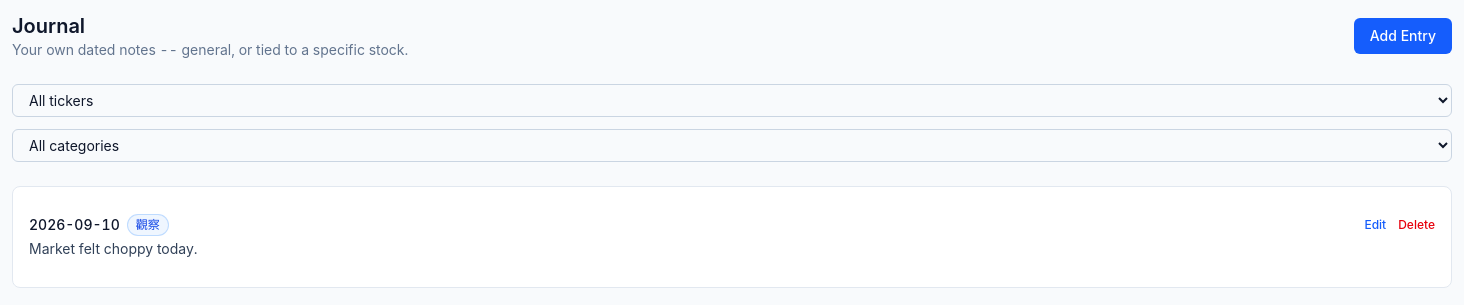
Test case: Journal page › filters entries by category
Expected: the text "Market felt choppy today." is shown, top-left (29, 240), bottom-right (198, 257)
Step 1. Select "檢討" in the 2nd dropdown showing "All categories" → [732, 146], box top-left (12, 129), bottom-right (1452, 162)
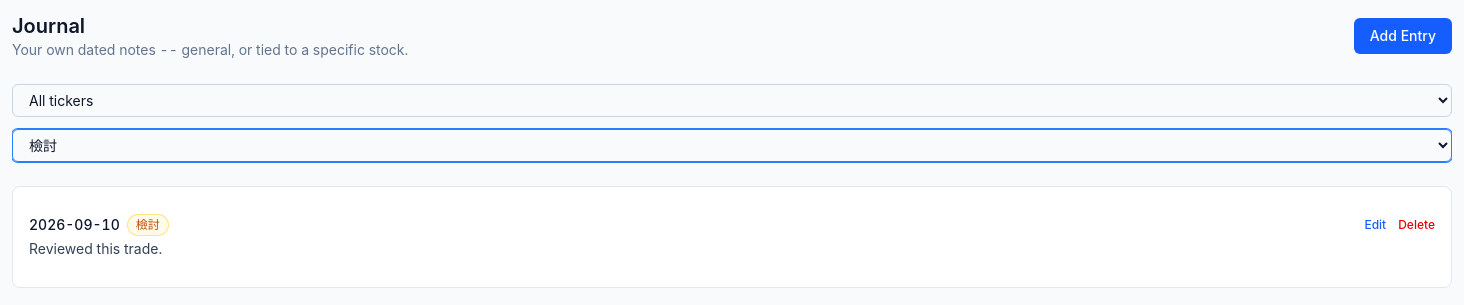
Expected: the text "Reviewed this trade." is shown, top-left (29, 240), bottom-right (162, 257)
